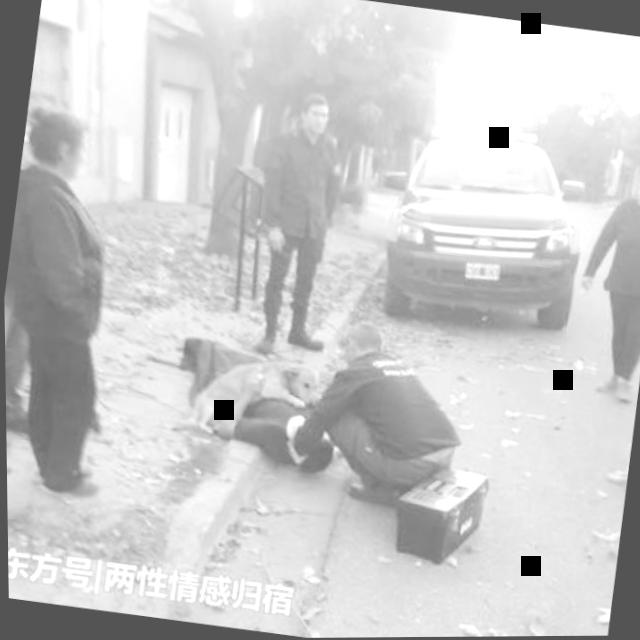Fall-Detected: (146, 323, 354, 484)
